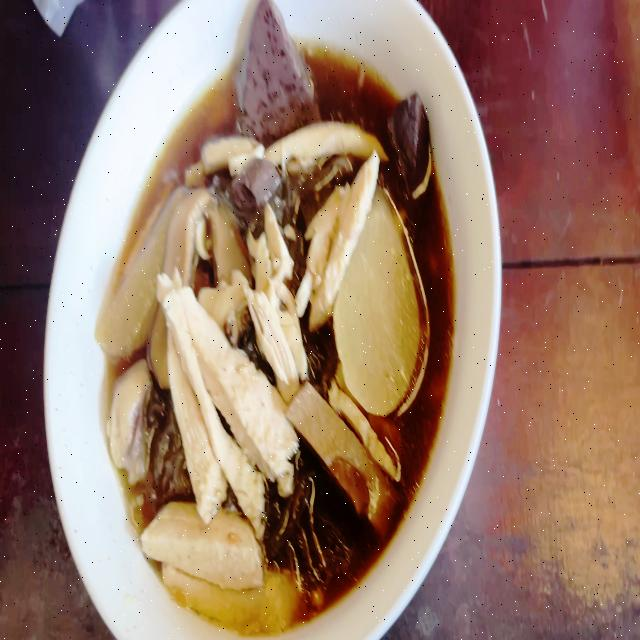boiled_chicken_blood_jelly: (242, 6, 315, 120), (390, 89, 436, 189), (232, 168, 280, 222)
chicken_shredded: (162, 277, 282, 510), (304, 155, 379, 307), (246, 220, 300, 388), (146, 508, 268, 581), (110, 355, 148, 470), (272, 127, 376, 158), (198, 132, 256, 166)
daikon_radish: (339, 203, 425, 412), (99, 186, 170, 350)
noodle: (101, 57, 443, 623)
